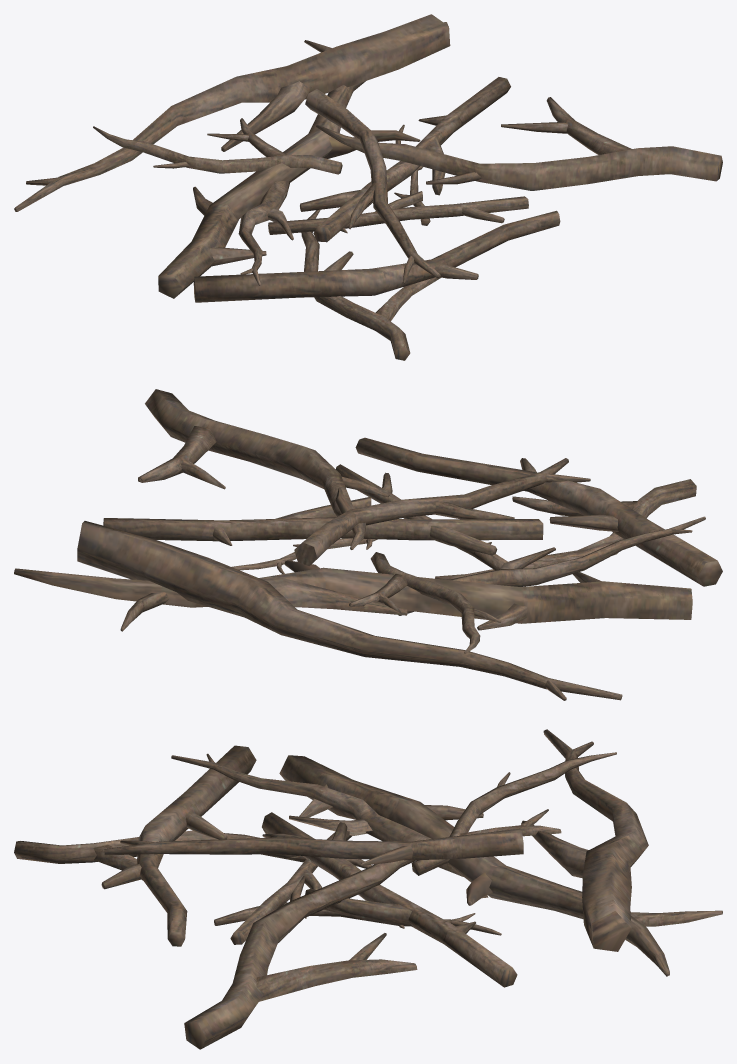
File: CollectibleBranch.fbx
3 renders of one model, top to bottom at view 1: azimuth 30°, elevation 25°; view 2: azimuth 150°, elevation 25°; view 3: azimuth 270°, elevation 25°, orthographic. The views are drawn at different scales.
Parts seen in each view (by area): view 1: ItemBox_Branch_01; view 2: ItemBox_Branch_01; view 3: ItemBox_Branch_01.
Boxes of the visible parts, x1,y1,x2,y2 form: ItemBox_Branch_01: [14, 14, 722, 360]; ItemBox_Branch_01: [14, 389, 722, 700]; ItemBox_Branch_01: [14, 729, 722, 1049].
Bounding box in the file's own units: 1.8 × 0.2825 × 1.66.
Materials: 1 (1 with a texture image).
